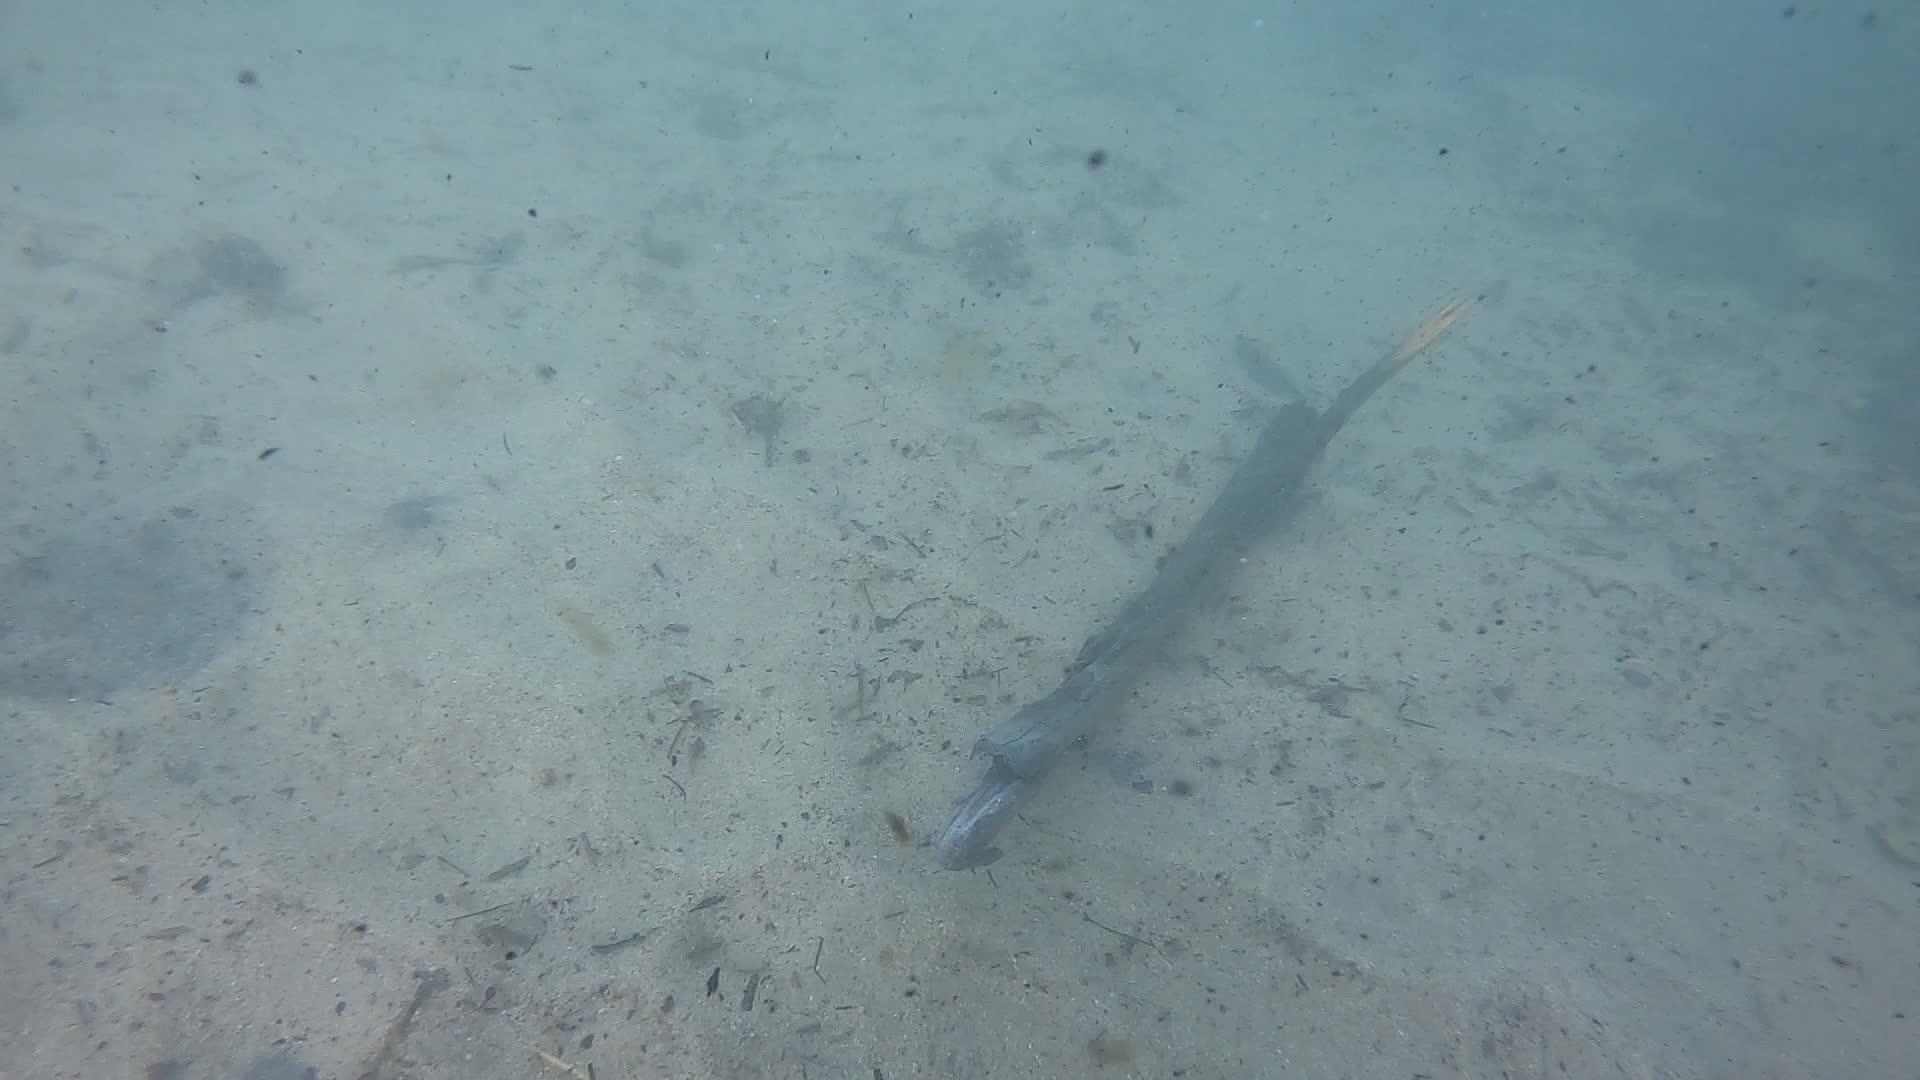wood: (932, 291, 1485, 866)
